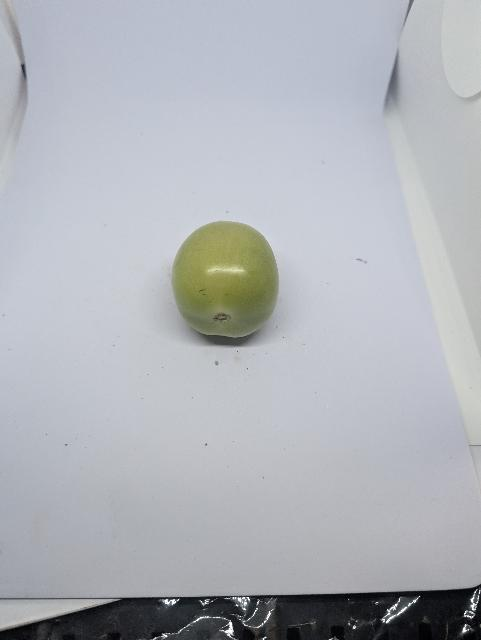green: (169, 218, 282, 339)
